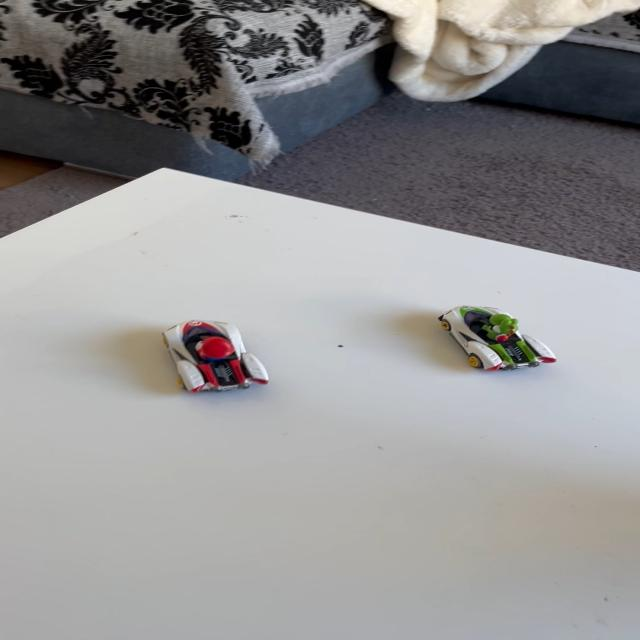mario: (150, 314, 284, 405)
yoshi: (429, 302, 564, 381)
